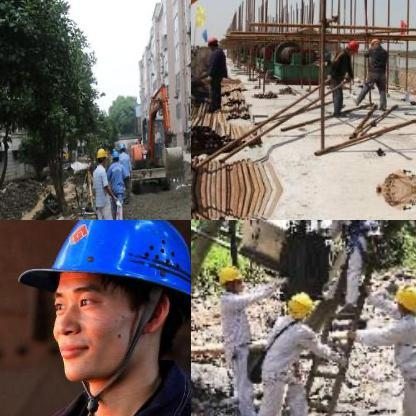Helmet: (15, 220, 190, 405), (216, 262, 248, 296), (286, 288, 314, 320), (391, 282, 415, 315), (93, 142, 107, 166), (344, 36, 358, 54), (204, 33, 218, 49), (117, 142, 129, 154), (109, 149, 119, 163), (368, 36, 380, 46), (191, 68, 196, 80)
